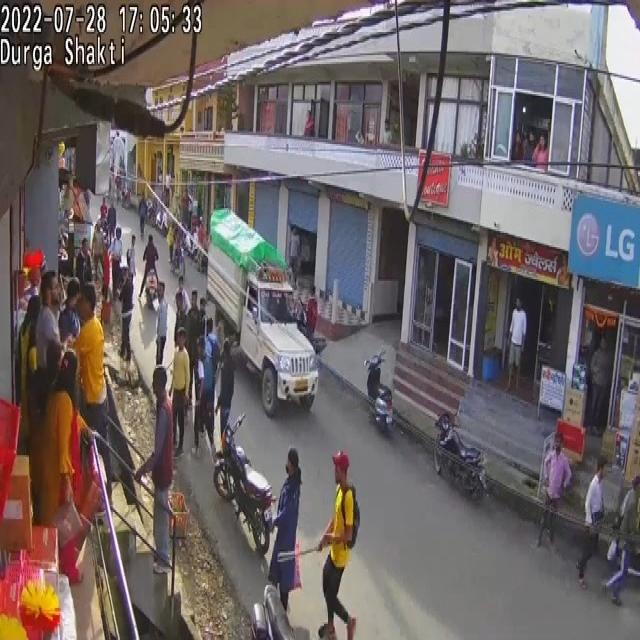fight: (0, 261, 114, 543), (36, 353, 92, 580), (72, 283, 128, 504), (20, 280, 51, 472), (35, 275, 63, 377), (532, 134, 549, 167)
non-fight: (134, 364, 174, 573), (316, 450, 358, 640), (266, 448, 302, 613), (594, 469, 635, 601), (572, 454, 607, 587), (535, 435, 571, 554), (168, 328, 191, 458), (198, 332, 220, 452), (502, 298, 526, 392), (588, 338, 611, 434), (216, 338, 236, 445), (118, 270, 135, 363), (546, 451, 572, 501), (139, 236, 159, 298), (155, 282, 168, 363), (106, 201, 116, 241), (139, 196, 148, 237), (168, 222, 175, 263)
